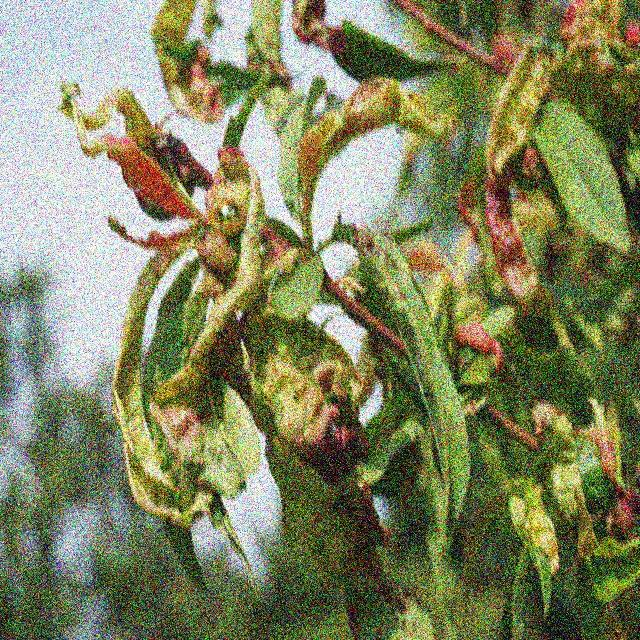leaf_curl: (52, 52, 230, 235), (226, 303, 404, 486), (396, 132, 574, 315), (74, 364, 251, 548)
